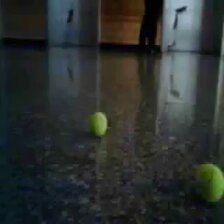tennis: (195, 162, 224, 206), (87, 111, 109, 136)
